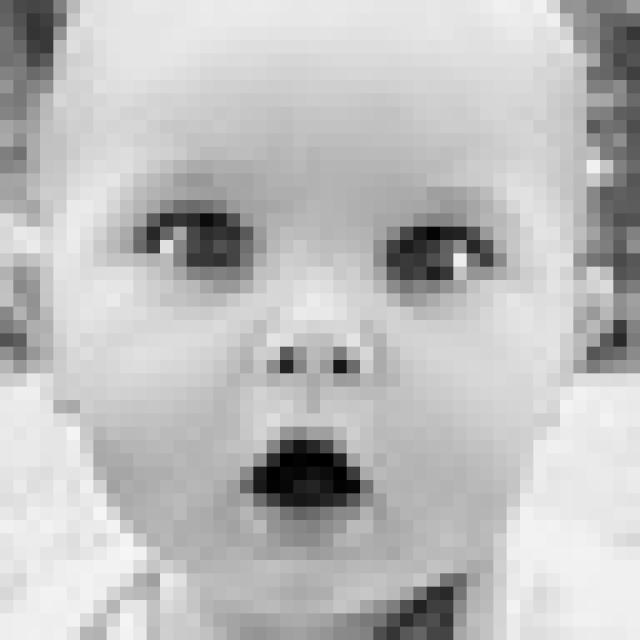surprise: (117, 158, 524, 548)
